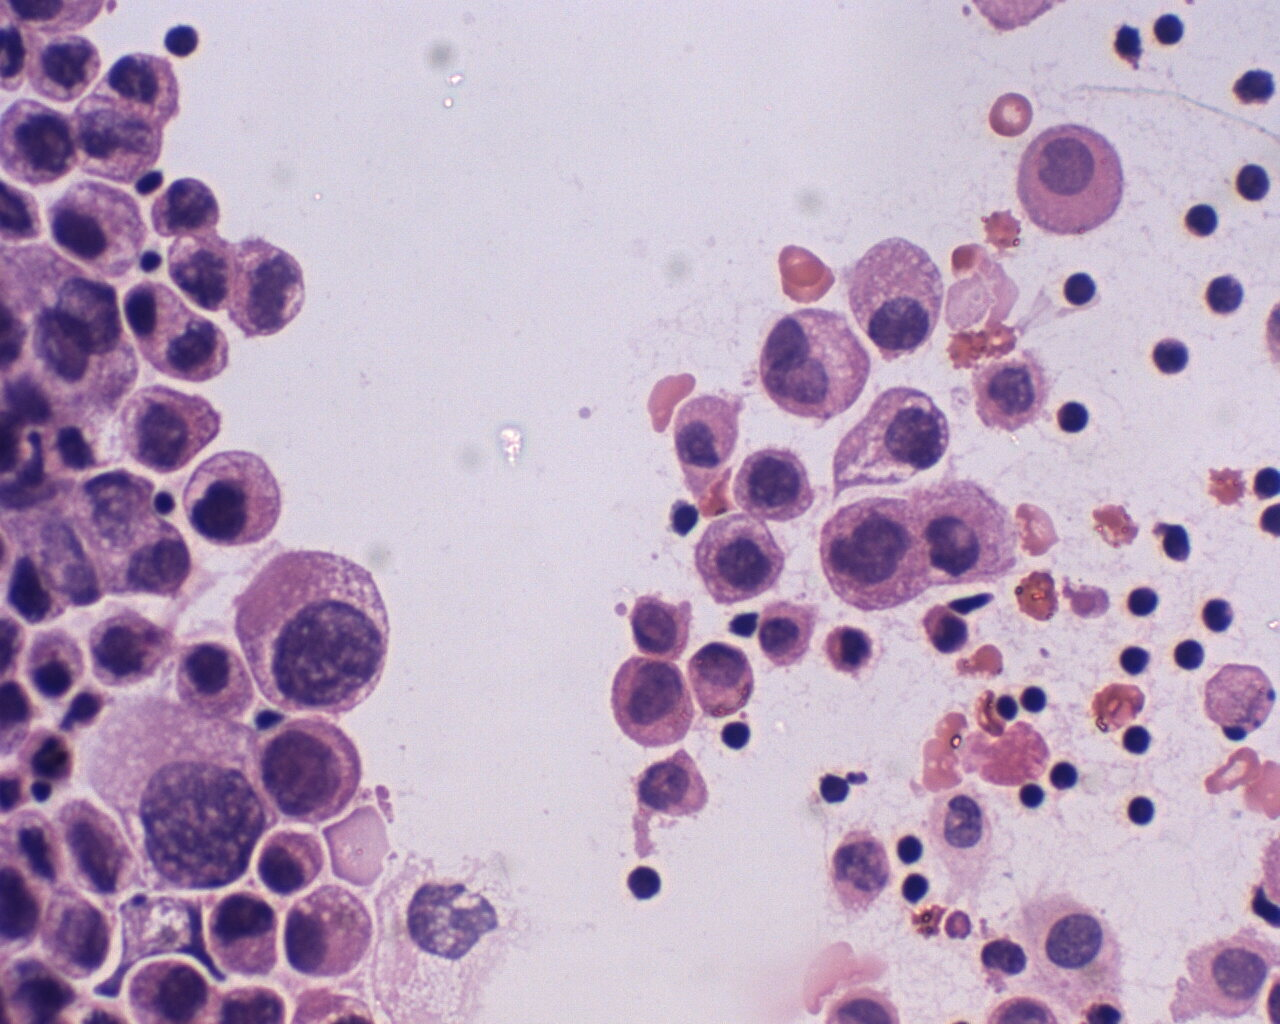ab: (229, 551, 393, 720), (816, 491, 933, 616), (757, 303, 874, 422), (850, 232, 955, 360), (254, 715, 372, 823), (184, 445, 284, 553), (686, 509, 793, 606), (115, 383, 224, 471), (227, 239, 317, 345), (606, 656, 701, 754), (727, 438, 813, 520), (204, 889, 281, 980), (79, 609, 166, 689), (1, 97, 75, 188), (171, 228, 237, 312), (622, 592, 702, 661)
lymph: (1173, 195, 1227, 247), (1061, 265, 1110, 317), (620, 861, 669, 908), (1054, 394, 1096, 443), (1121, 578, 1162, 624), (1112, 639, 1156, 681), (712, 715, 757, 753), (1044, 753, 1083, 796), (1123, 787, 1161, 830), (893, 827, 930, 866)
meso: (1016, 114, 1125, 235), (752, 601, 819, 671)
